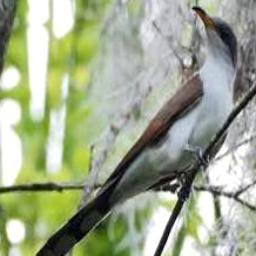Cuckoo: (33, 5, 237, 256)
